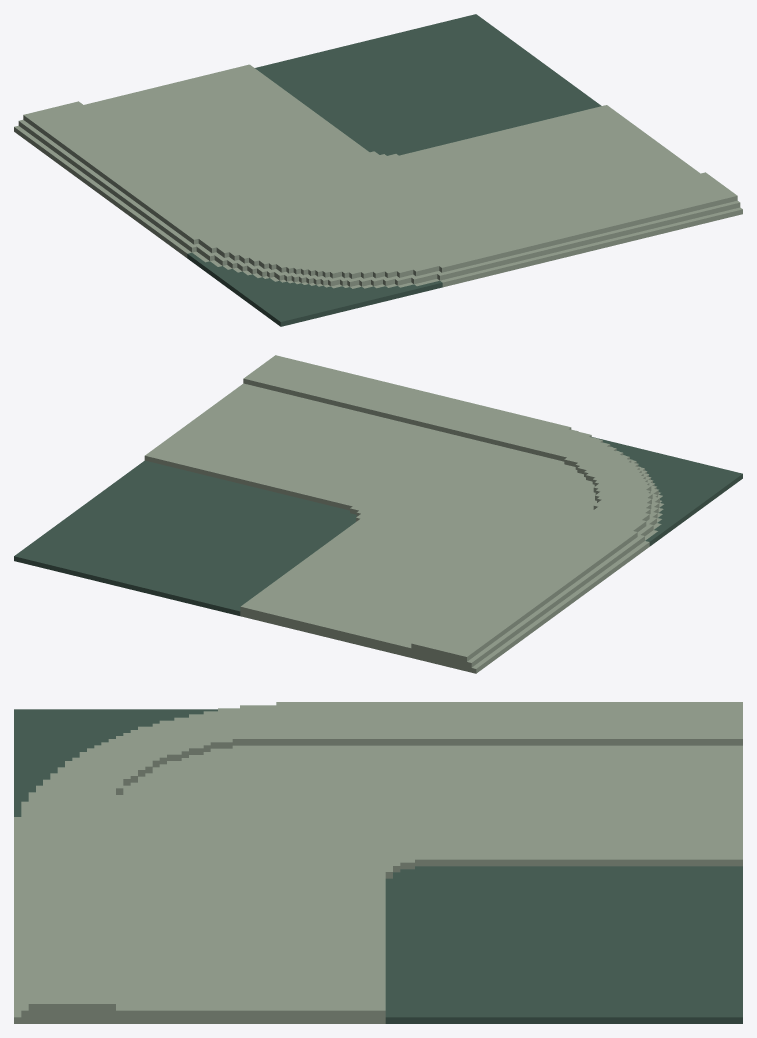
File: vcity_curb_corner_c.glb
The picture shows the model from 3 angles, top to bottom: view 1: azimuth 30°, elevation 25°; view 2: azimuth 150°, elevation 25°; view 3: azimuth 270°, elevation 25°; orthographic projection. The views are drawn at different scales.
Visible parts, largest first — view 1: vcity_curb_corner_c; view 2: vcity_curb_corner_c; view 3: vcity_curb_corner_c.
Boxes of the visible parts, bbox=[...] form: vcity_curb_corner_c: bbox=[14, 14, 742, 326]; vcity_curb_corner_c: bbox=[14, 355, 742, 673]; vcity_curb_corner_c: bbox=[14, 702, 742, 1023].
Bounding box in the file's own units: 5 × 0.15 × 5.
Materials: 1 (1 with a texture image).
